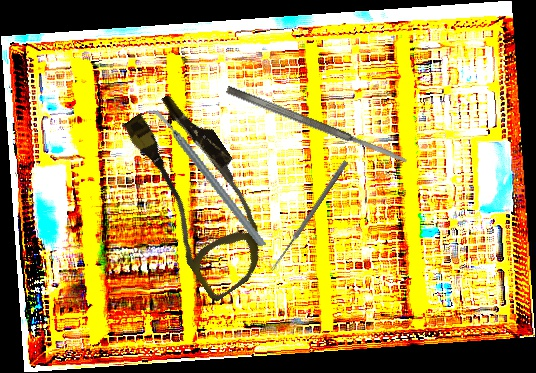Cannula: (103, 84, 294, 304)
Chopper: (145, 90, 267, 266)
Spatula Surgical: (225, 84, 409, 167)
Surgical Spoon: (269, 159, 349, 273)
